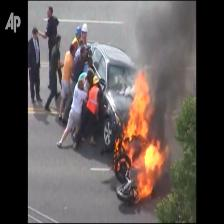fire: (115, 68, 168, 202)
